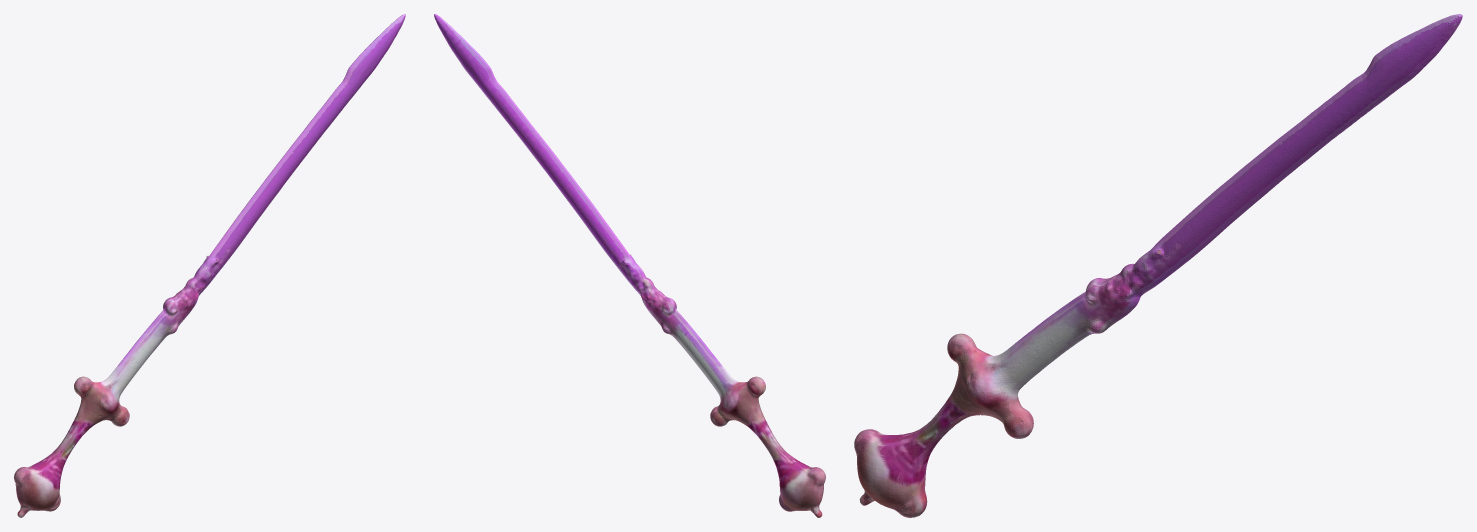
File: gracie_weapon.glb
3 views of the same model, side by side, from view 1: azimuth 30°, elevation 25°; view 2: azimuth 150°, elevation 25°; view 3: azimuth 330°, elevation 25° (orthographic). The views are drawn at different scales.
Visible parts, largest first — view 1: tmpv_o8jjxv.ply; view 2: tmpv_o8jjxv.ply; view 3: tmpv_o8jjxv.ply.
Part boxes in pixels (box(x1,y1,x2,y2)): tmpv_o8jjxv.ply: box(14, 14, 405, 517); tmpv_o8jjxv.ply: box(434, 14, 825, 517); tmpv_o8jjxv.ply: box(854, 14, 1462, 517).
Bounding box in the file's own units: 1.99 × 1.99 × 0.1659.
Materials: 1 (1 with a texture image).
